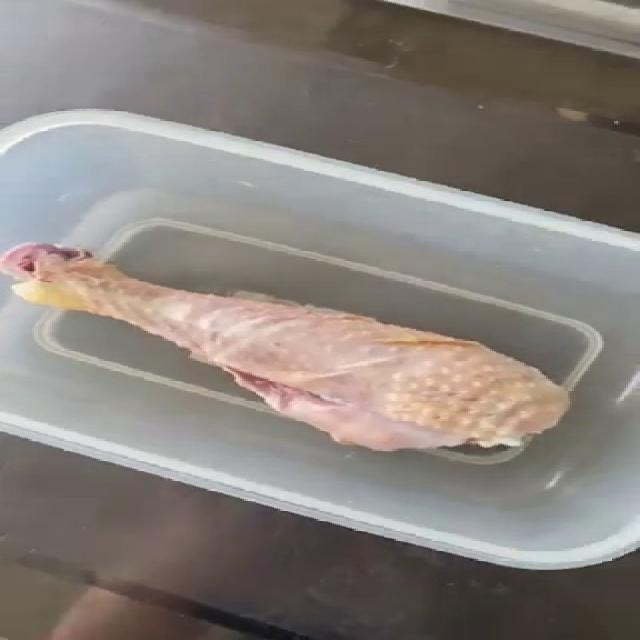chicken: (0, 242, 574, 458)
